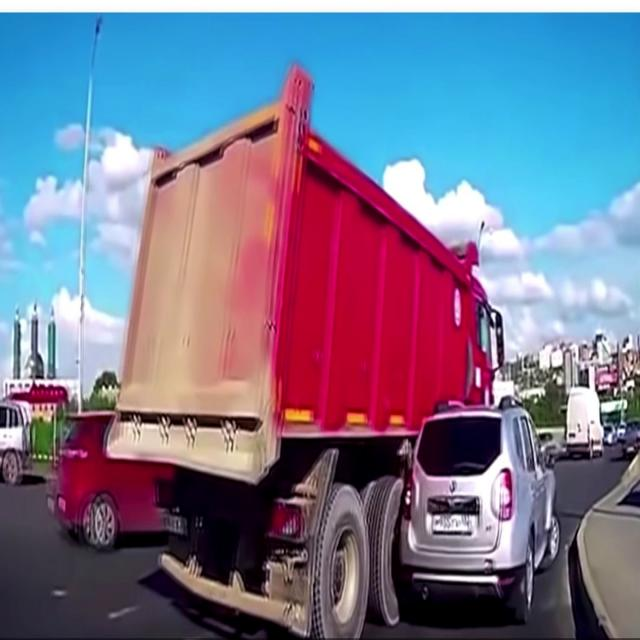accident: (122, 82, 558, 628)
